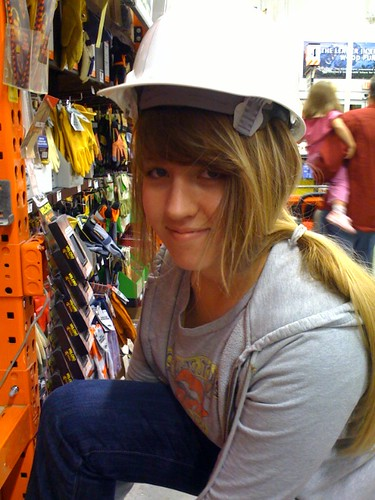person hardhat: (36, 2, 375, 500)
